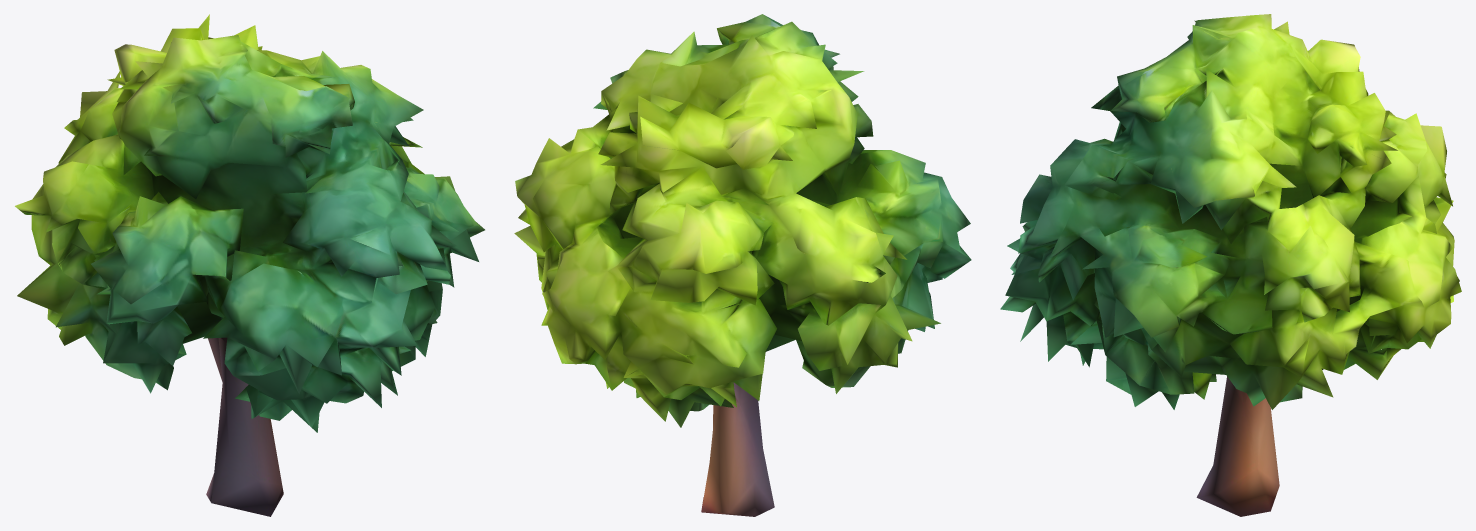
The model's file is apple_tripo.glb.
The picture shows the model from 3 angles, left to right: view 1: azimuth 30°, elevation 25°; view 2: azimuth 150°, elevation 25°; view 3: azimuth 270°, elevation 25°; orthographic projection. The views are drawn at different scales.
Visible parts, largest first — view 1: tripo_node_841fedc8-9c61-4ff5-9650-5a3d11ee7f65; view 2: tripo_node_841fedc8-9c61-4ff5-9650-5a3d11ee7f65; view 3: tripo_node_841fedc8-9c61-4ff5-9650-5a3d11ee7f65.
Part boxes in pixels (box(x1,y1,x2,y2)): tripo_node_841fedc8-9c61-4ff5-9650-5a3d11ee7f65: box(15, 14, 484, 516); tripo_node_841fedc8-9c61-4ff5-9650-5a3d11ee7f65: box(514, 14, 971, 516); tripo_node_841fedc8-9c61-4ff5-9650-5a3d11ee7f65: box(1000, 14, 1461, 516).
Bounding box in the file's own units: 0.8888 × 1 × 0.9054.
Materials: 1 (1 with a texture image).
